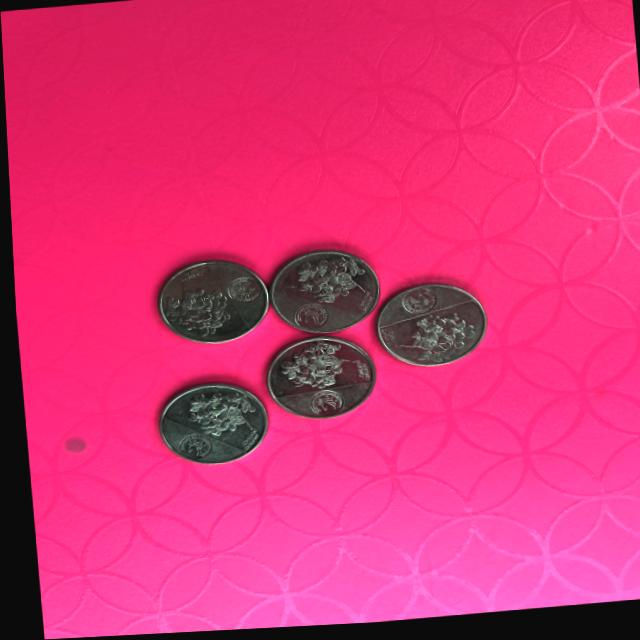1_New_Back: (158, 273, 227, 340), (399, 310, 476, 369), (287, 256, 366, 308), (183, 386, 253, 442), (278, 339, 348, 392)
